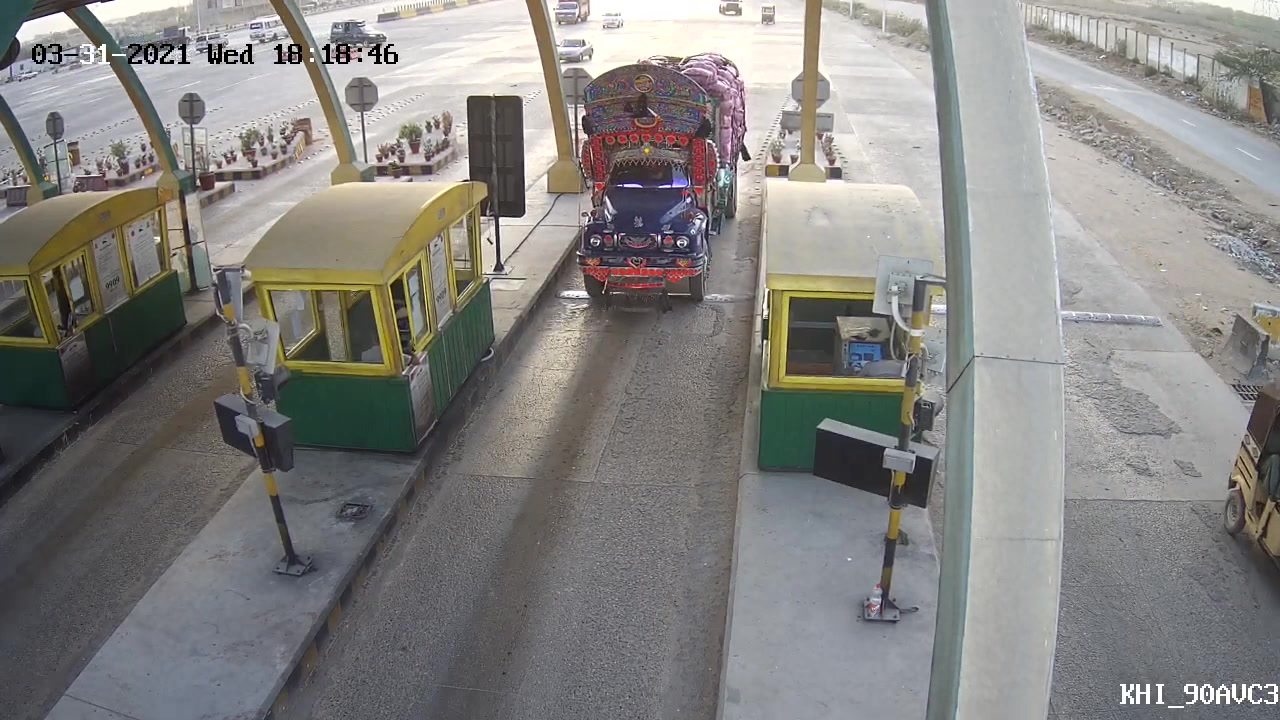F5: (568, 48, 757, 312)
